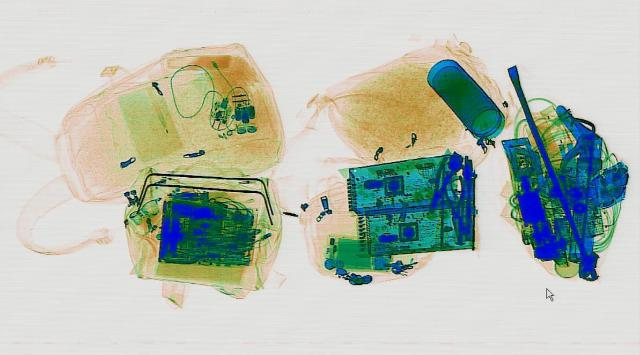Pliers: (418, 155, 464, 214), (439, 175, 465, 216)
